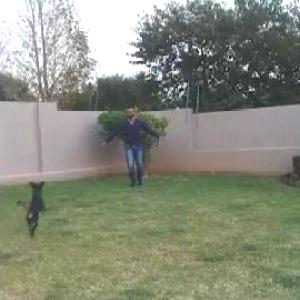land: (91, 96, 165, 194)
